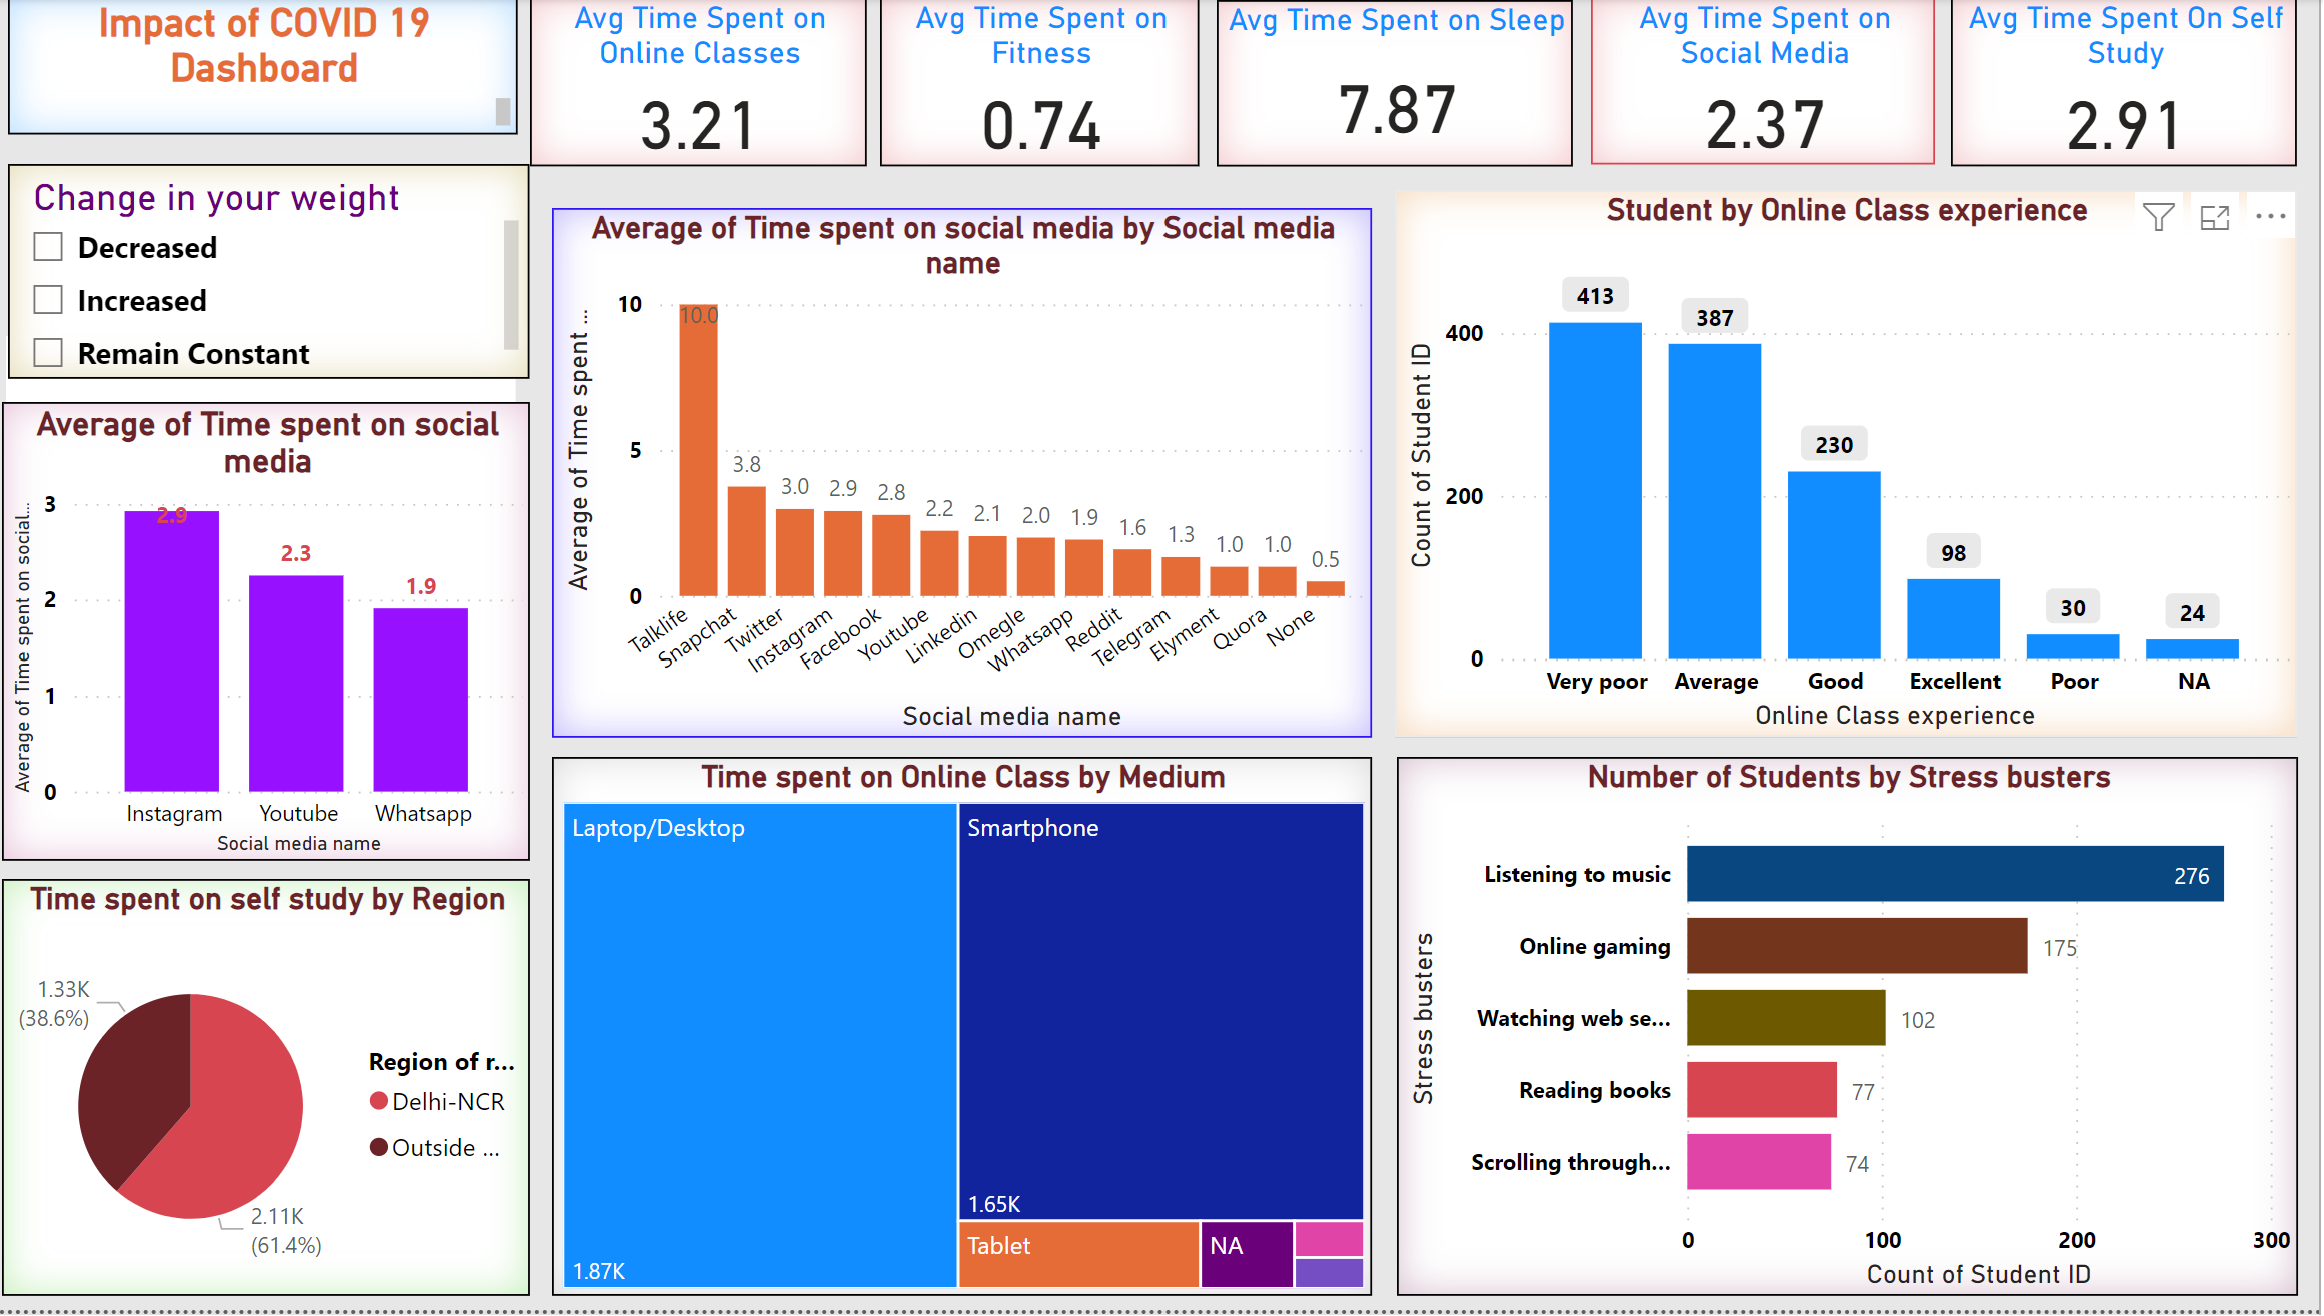

The page's visual inventory and layout, read from the dashboard file:
{"tool":"powerbi","page":{"name":"Page 1","canvas":[1280,720],"ordinal":0},"visuals":[{"type":"textbox","title":"Impact of COVID 19  Dashboard","box":[10.7,0,279.8,75],"z":0},{"type":"card","title":"Avg Time Spent on Online Classes","fields":{"Values":["Student_Survey.Time spent on Online Class"]},"box":[297.2,0,184.8,92.4],"z":1000},{"type":"textbox","box":[10,186,280,150],"z":2000},{"type":"card","title":"Avg Time Spent on Fitness","fields":{"Values":["Student_Survey.Time spent on fitness"]},"box":[490.1,0,175.2,92.4],"z":3000},{"type":"card","title":"Avg Time Spent on Sleep","fields":{"Values":["Student_Survey.Time spent on sleep"]},"box":[674.9,1.1,195.6,91.4],"z":4000},{"type":"card","title":"Avg Time Spent on Social Media","fields":{"Values":["Student_Survey.Time spent on social media"]},"box":[880.2,0,189.2,91.4],"z":5000},{"type":"card","title":"Avg Time Spent On Self Study","fields":{"Values":["Student_Survey.Time spent on self study"]},"box":[1078,0,190.2,92.4],"z":6000},{"type":"slicer","fields":{"Values":["Student_Survey.Change in your weight"]},"box":[10.7,91,286.5,117.8],"z":7000},{"type":"columnChart","title":"Average of Time spent on social media ","fields":{"Y":["Student_Survey.Time spent on social media"],"Category":["Student_Survey.Social media name"]},"box":[7.5,221.4,290.2,251.5],"z":7001},{"type":"columnChart","fields":{"Category":["Student_Survey.Social media name"],"Y":["Student_Survey.Time spent on social media"]},"box":[309.3,115.1,449.9,290.5],"z":7002},{"type":"columnChart","title":" Student by Online Class experience","fields":{"Y":["Student_Survey.Student ID"],"Category":["Student_Survey.Online Class experience"]},"box":[772.6,105.8,495.4,299.9],"z":7003},{"type":"pieChart","title":"Time spent on self study by Region ","fields":{"Y":["Student_Survey.Time spent on self study"],"Category":["Student_Survey.Region of residence"]},"box":[7.5,483.6,290.2,228.9],"z":7004},{"type":"treemap","title":"Time spent on Online Class by Medium ","fields":{"Group":["Student_Survey.Medium for online class"],"Values":["Student_Survey.Time spent on Online Class"]},"box":[309.3,416.4,449.9,295.9],"z":7005},{"type":"barChart","title":"Number of Students by Stress busters","fields":{"Category":["Student_Survey.Stress busters"],"Y":["Student_Survey.Student ID"]},"box":[773,416,495,296],"z":7006}]}

Visuals, with their boxes in screenshot pixels (x1, y1, x2, y2), scaled from the page's 1280x720 canvas onto the 2324x1316 screenshot:
"Impact of COVID 19  Dashboard" textbox: l=19, t=0, r=527, b=137
"Avg Time Spent on Online Classes" card: l=540, t=0, r=875, b=169
textbox: l=18, t=340, r=527, b=614
"Avg Time Spent on Fitness" card: l=890, t=0, r=1208, b=169
"Avg Time Spent on Sleep" card: l=1225, t=2, r=1581, b=169
"Avg Time Spent on Social Media" card: l=1598, t=0, r=1942, b=167
"Avg Time Spent On Self Study" card: l=1957, t=0, r=2303, b=169
slicer - Student_Survey.Change in your weight: l=19, t=166, r=540, b=382
"Average of Time spent on social media " columnChart: l=14, t=405, r=541, b=864
columnChart - Student_Survey.Social media name x Student_Survey.Time spent on social media: l=562, t=210, r=1378, b=741
" Student by Online Class experience" columnChart: l=1403, t=193, r=2302, b=742
"Time spent on self study by Region " pieChart: l=14, t=884, r=541, b=1302
"Time spent on Online Class by Medium " treemap: l=562, t=761, r=1378, b=1302
"Number of Students by Stress busters" barChart: l=1403, t=760, r=2302, b=1301
